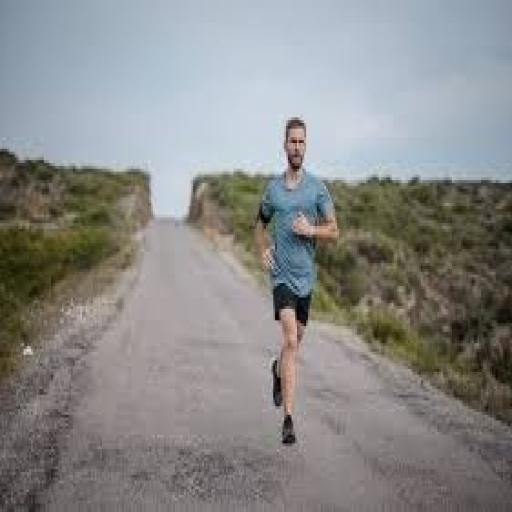running: (253, 114, 341, 449)
